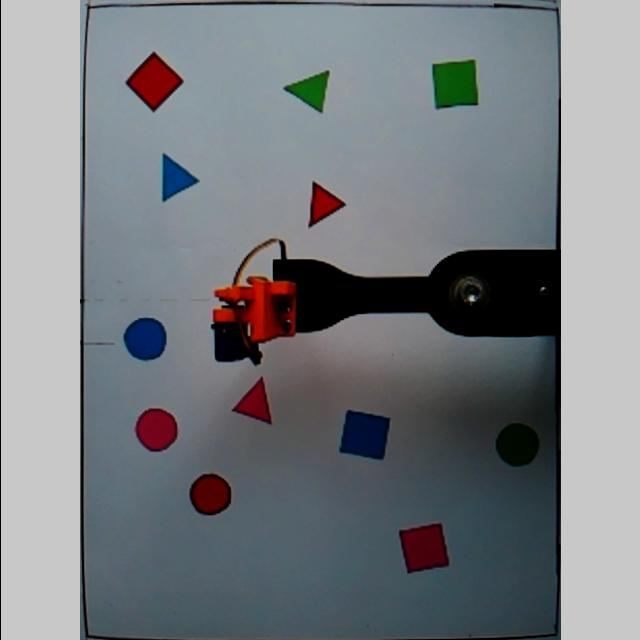blueCircle: (121, 316, 170, 362)
blueSquare: (339, 406, 393, 462)
blueTriangle: (160, 152, 202, 204)
greenCircle: (494, 420, 542, 468)
greenSquare: (430, 58, 480, 112)
greenTriangle: (281, 68, 333, 116)
pinkCircle: (134, 407, 180, 453)
pinkSquare: (398, 518, 452, 578)
pinkTriangle: (230, 377, 276, 428)
redCircle: (188, 470, 234, 518)
redSquare: (124, 49, 188, 115)
redTriangle: (307, 178, 347, 232)
